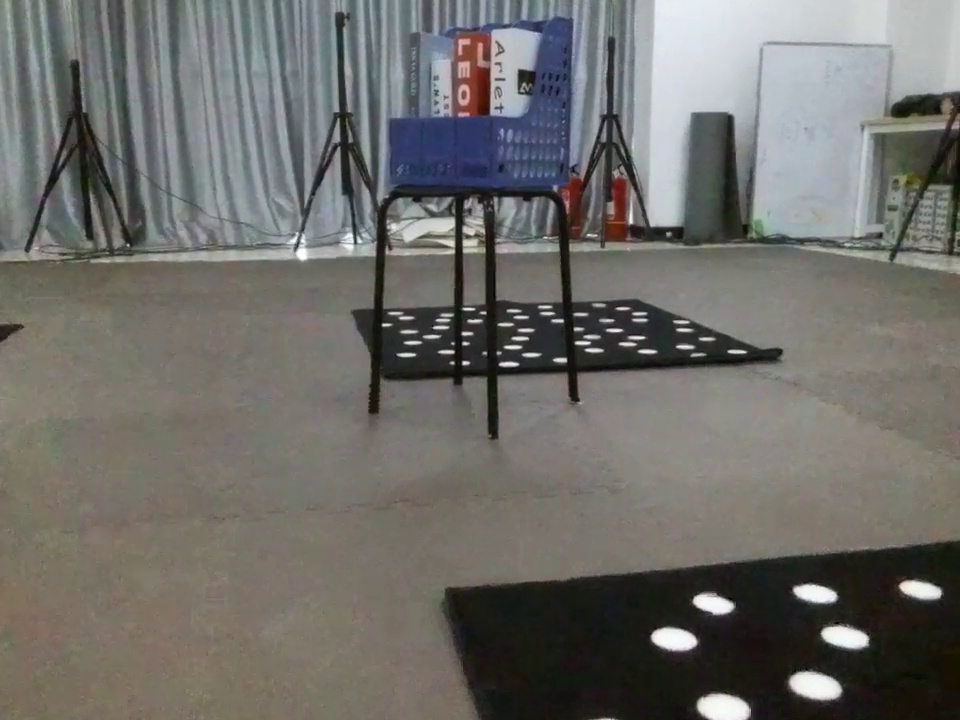files: (381, 12, 589, 200)
